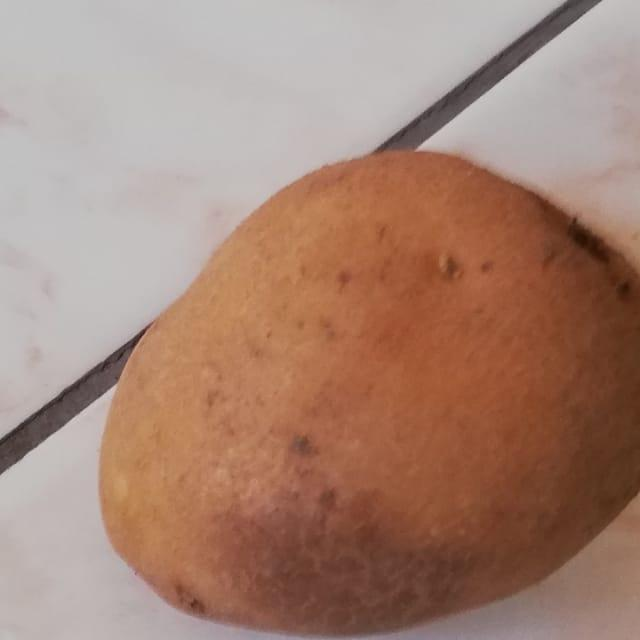potato: (85, 122, 640, 640)
